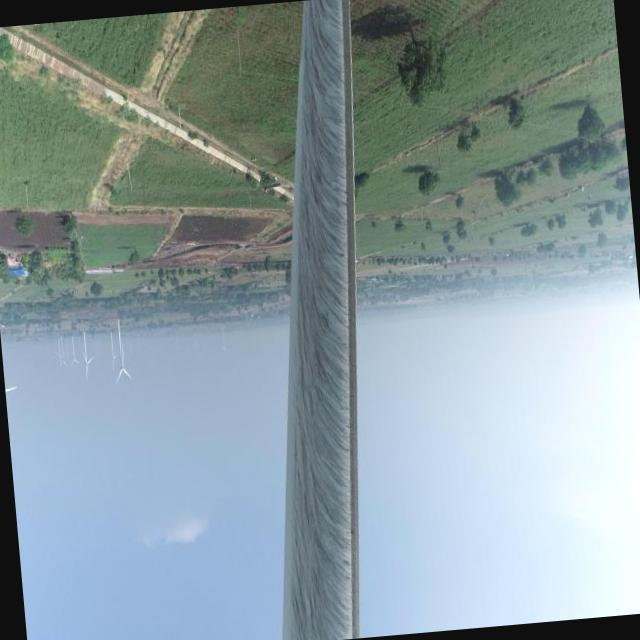Dirt: (285, 0, 362, 640)
